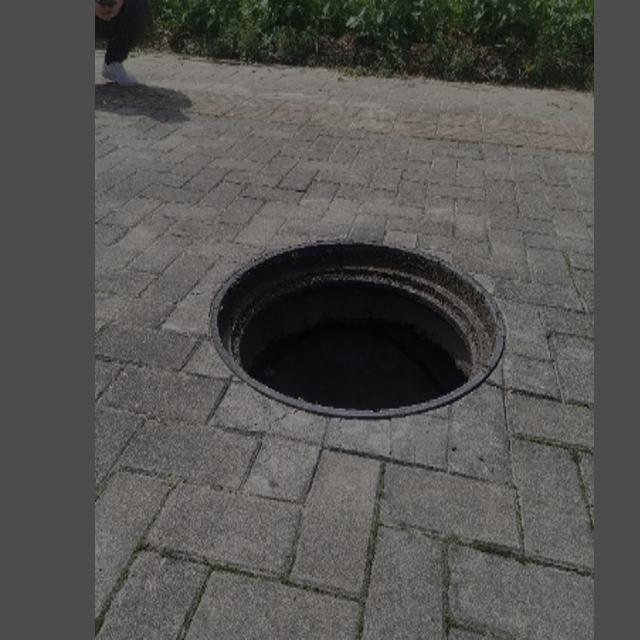lose: (207, 244, 512, 423)
